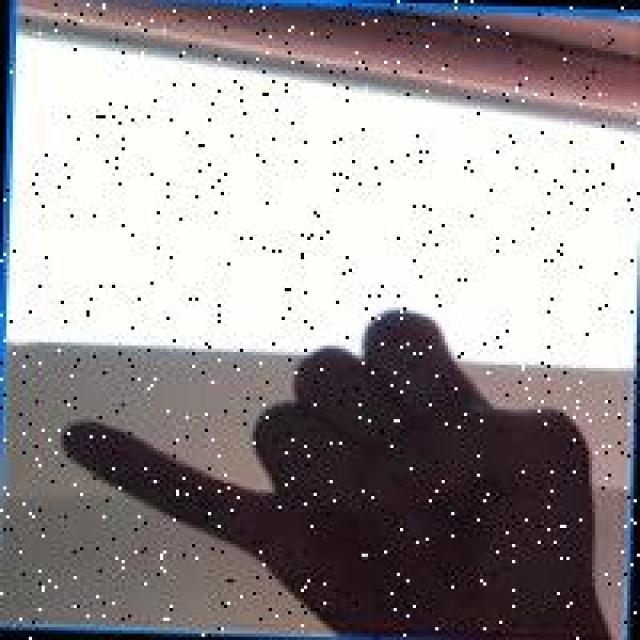J: (39, 278, 612, 637)
